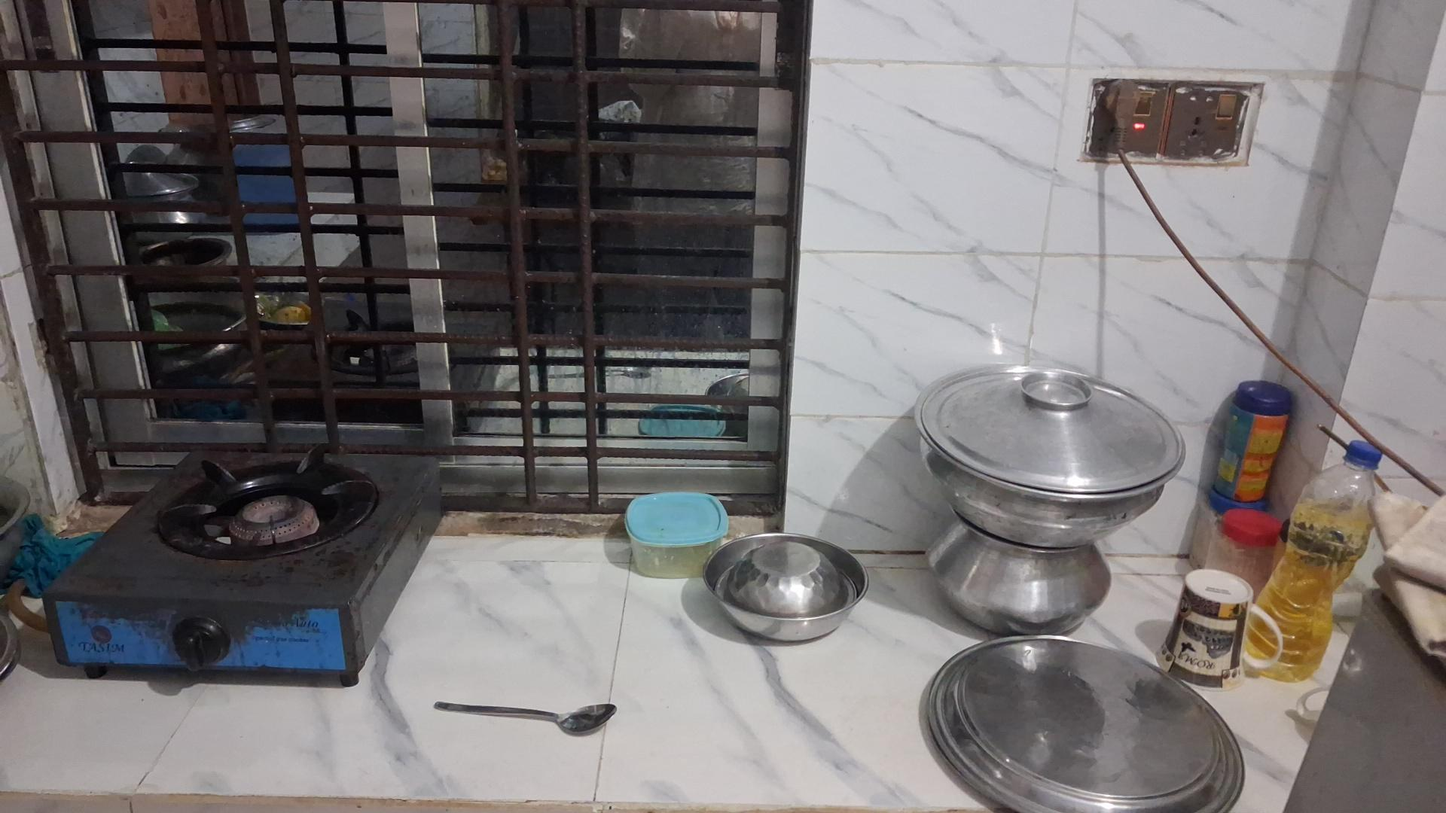Bottle: (1242, 434, 1387, 684)
Bowl: (703, 531, 867, 643)
Cup: (1170, 569, 1271, 681)
Jar: (619, 491, 724, 578), (1222, 389, 1289, 507)
Plate: (913, 637, 1251, 813)
Pot: (910, 362, 1183, 544), (935, 521, 1111, 638)
Spoon: (433, 701, 617, 736)
